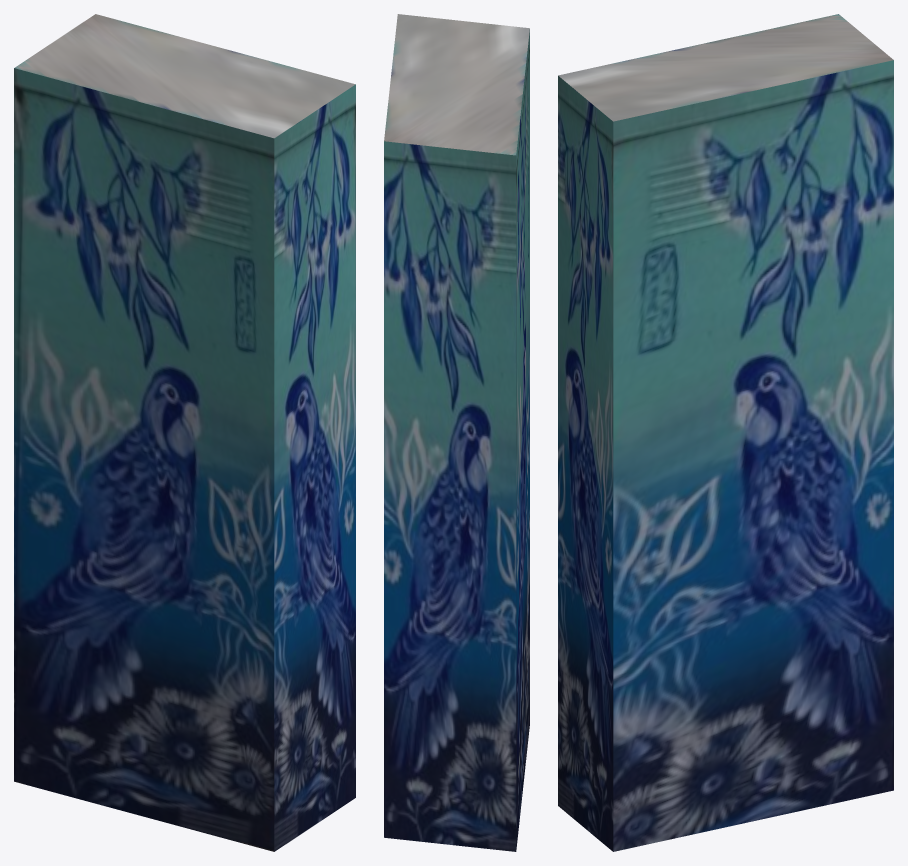
Rendered from new blue bird box test2.fbx.
The picture shows the model from 3 angles, left to right: view 1: azimuth 30°, elevation 25°; view 2: azimuth 150°, elevation 25°; view 3: azimuth 270°, elevation 25°; orthographic projection. The views are drawn at different scales.
Parts seen in each view (by area): view 1: birdbakenew; view 2: birdbakenew; view 3: birdbakenew.
Part boxes in pixels (x1,y1,x2,y2): birdbakenew: (14, 14, 355, 851); birdbakenew: (384, 14, 529, 851); birdbakenew: (558, 14, 893, 851).
Bounding box in the file's own units: 214 × 638 × 263.
